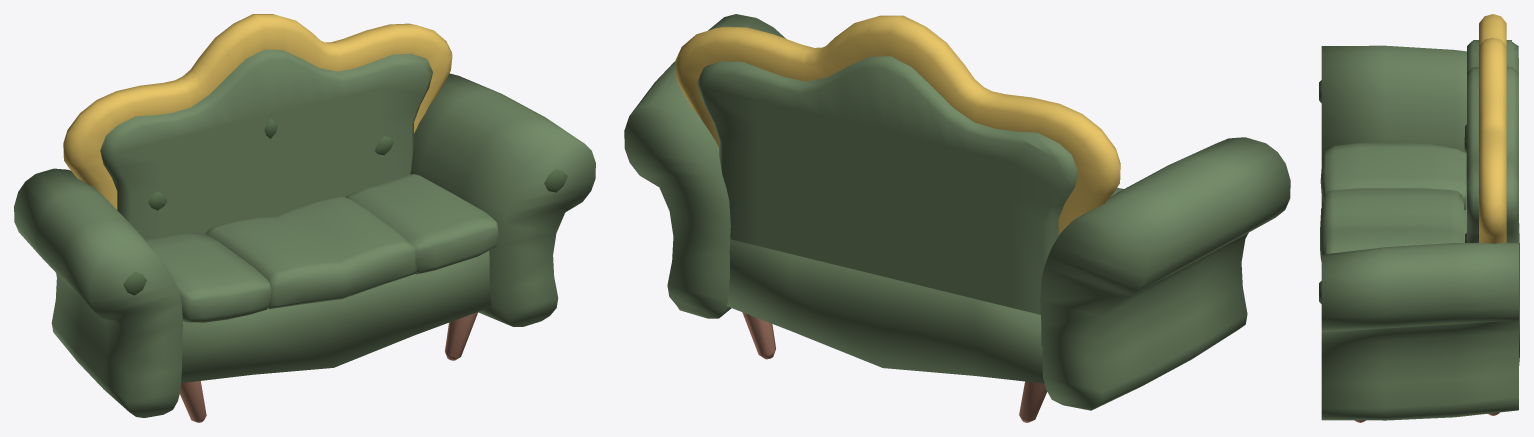
Rendered from props_couch.fbx.
The picture shows the model from 3 angles, left to right: view 1: azimuth 30°, elevation 25°; view 2: azimuth 150°, elevation 25°; view 3: azimuth 270°, elevation 25°; orthographic projection. The views are drawn at different scales.
Parts seen in each view (by area): view 1: base_canap, dorure, pieds, boutons; view 2: base_canap, dorure, pieds; view 3: base_canap, dorure, boutons.
Part boxes in pixels (x1=…): base_canap: x1=14, y1=49, x2=595, y2=417; dorure: x1=63, y1=14, x2=452, y2=209; pieds: x1=180, y1=312, x2=478, y2=422; boutons: x1=123, y1=119, x2=567, y2=295; base_canap: x1=624, y1=14, x2=1290, y2=410; dorure: x1=675, y1=15, x2=1120, y2=235; pieds: x1=742, y1=312, x2=1047, y2=422; base_canap: x1=1320, y1=40, x2=1519, y2=420; dorure: x1=1479, y1=14, x2=1506, y2=243; boutons: x1=1319, y1=80, x2=1466, y2=303.
Size of the model in its own units: 283 by 174 by 99.35.
